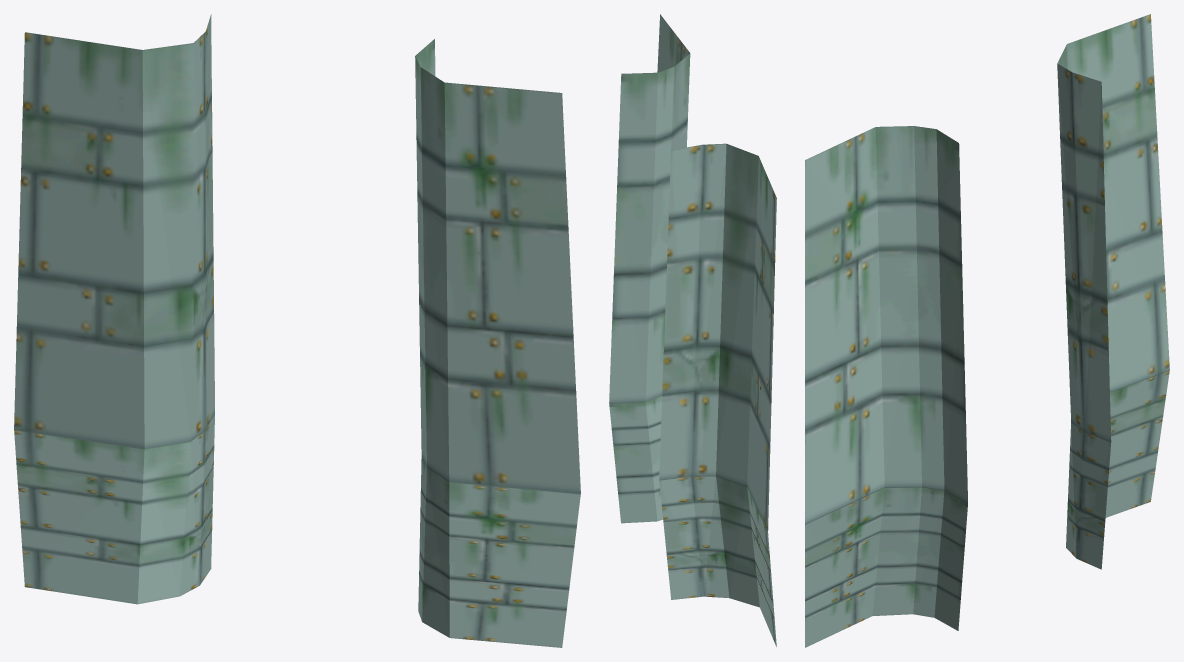
File: W_A_KinoEingang_1982.glb
The picture shows the model from 3 angles, left to right: view 1: azimuth 30°, elevation 25°; view 2: azimuth 150°, elevation 25°; view 3: azimuth 270°, elevation 25°; orthographic projection. The views are drawn at different scales.
Visible parts, largest first — view 1: pPlaneShape7; view 2: pPlaneShape7; view 3: pPlaneShape7.
Boxes of the visible parts, left/top/right/bottom form: pPlaneShape7: left=14, top=14, right=580, bottom=647; pPlaneShape7: left=609, top=14, right=776, bottom=646; pPlaneShape7: left=805, top=14, right=1169, bottom=647.
Size of the model in its own units: 0.5275 by 0.7783 by 0.5275.
Materials: 1 (1 with a texture image).
